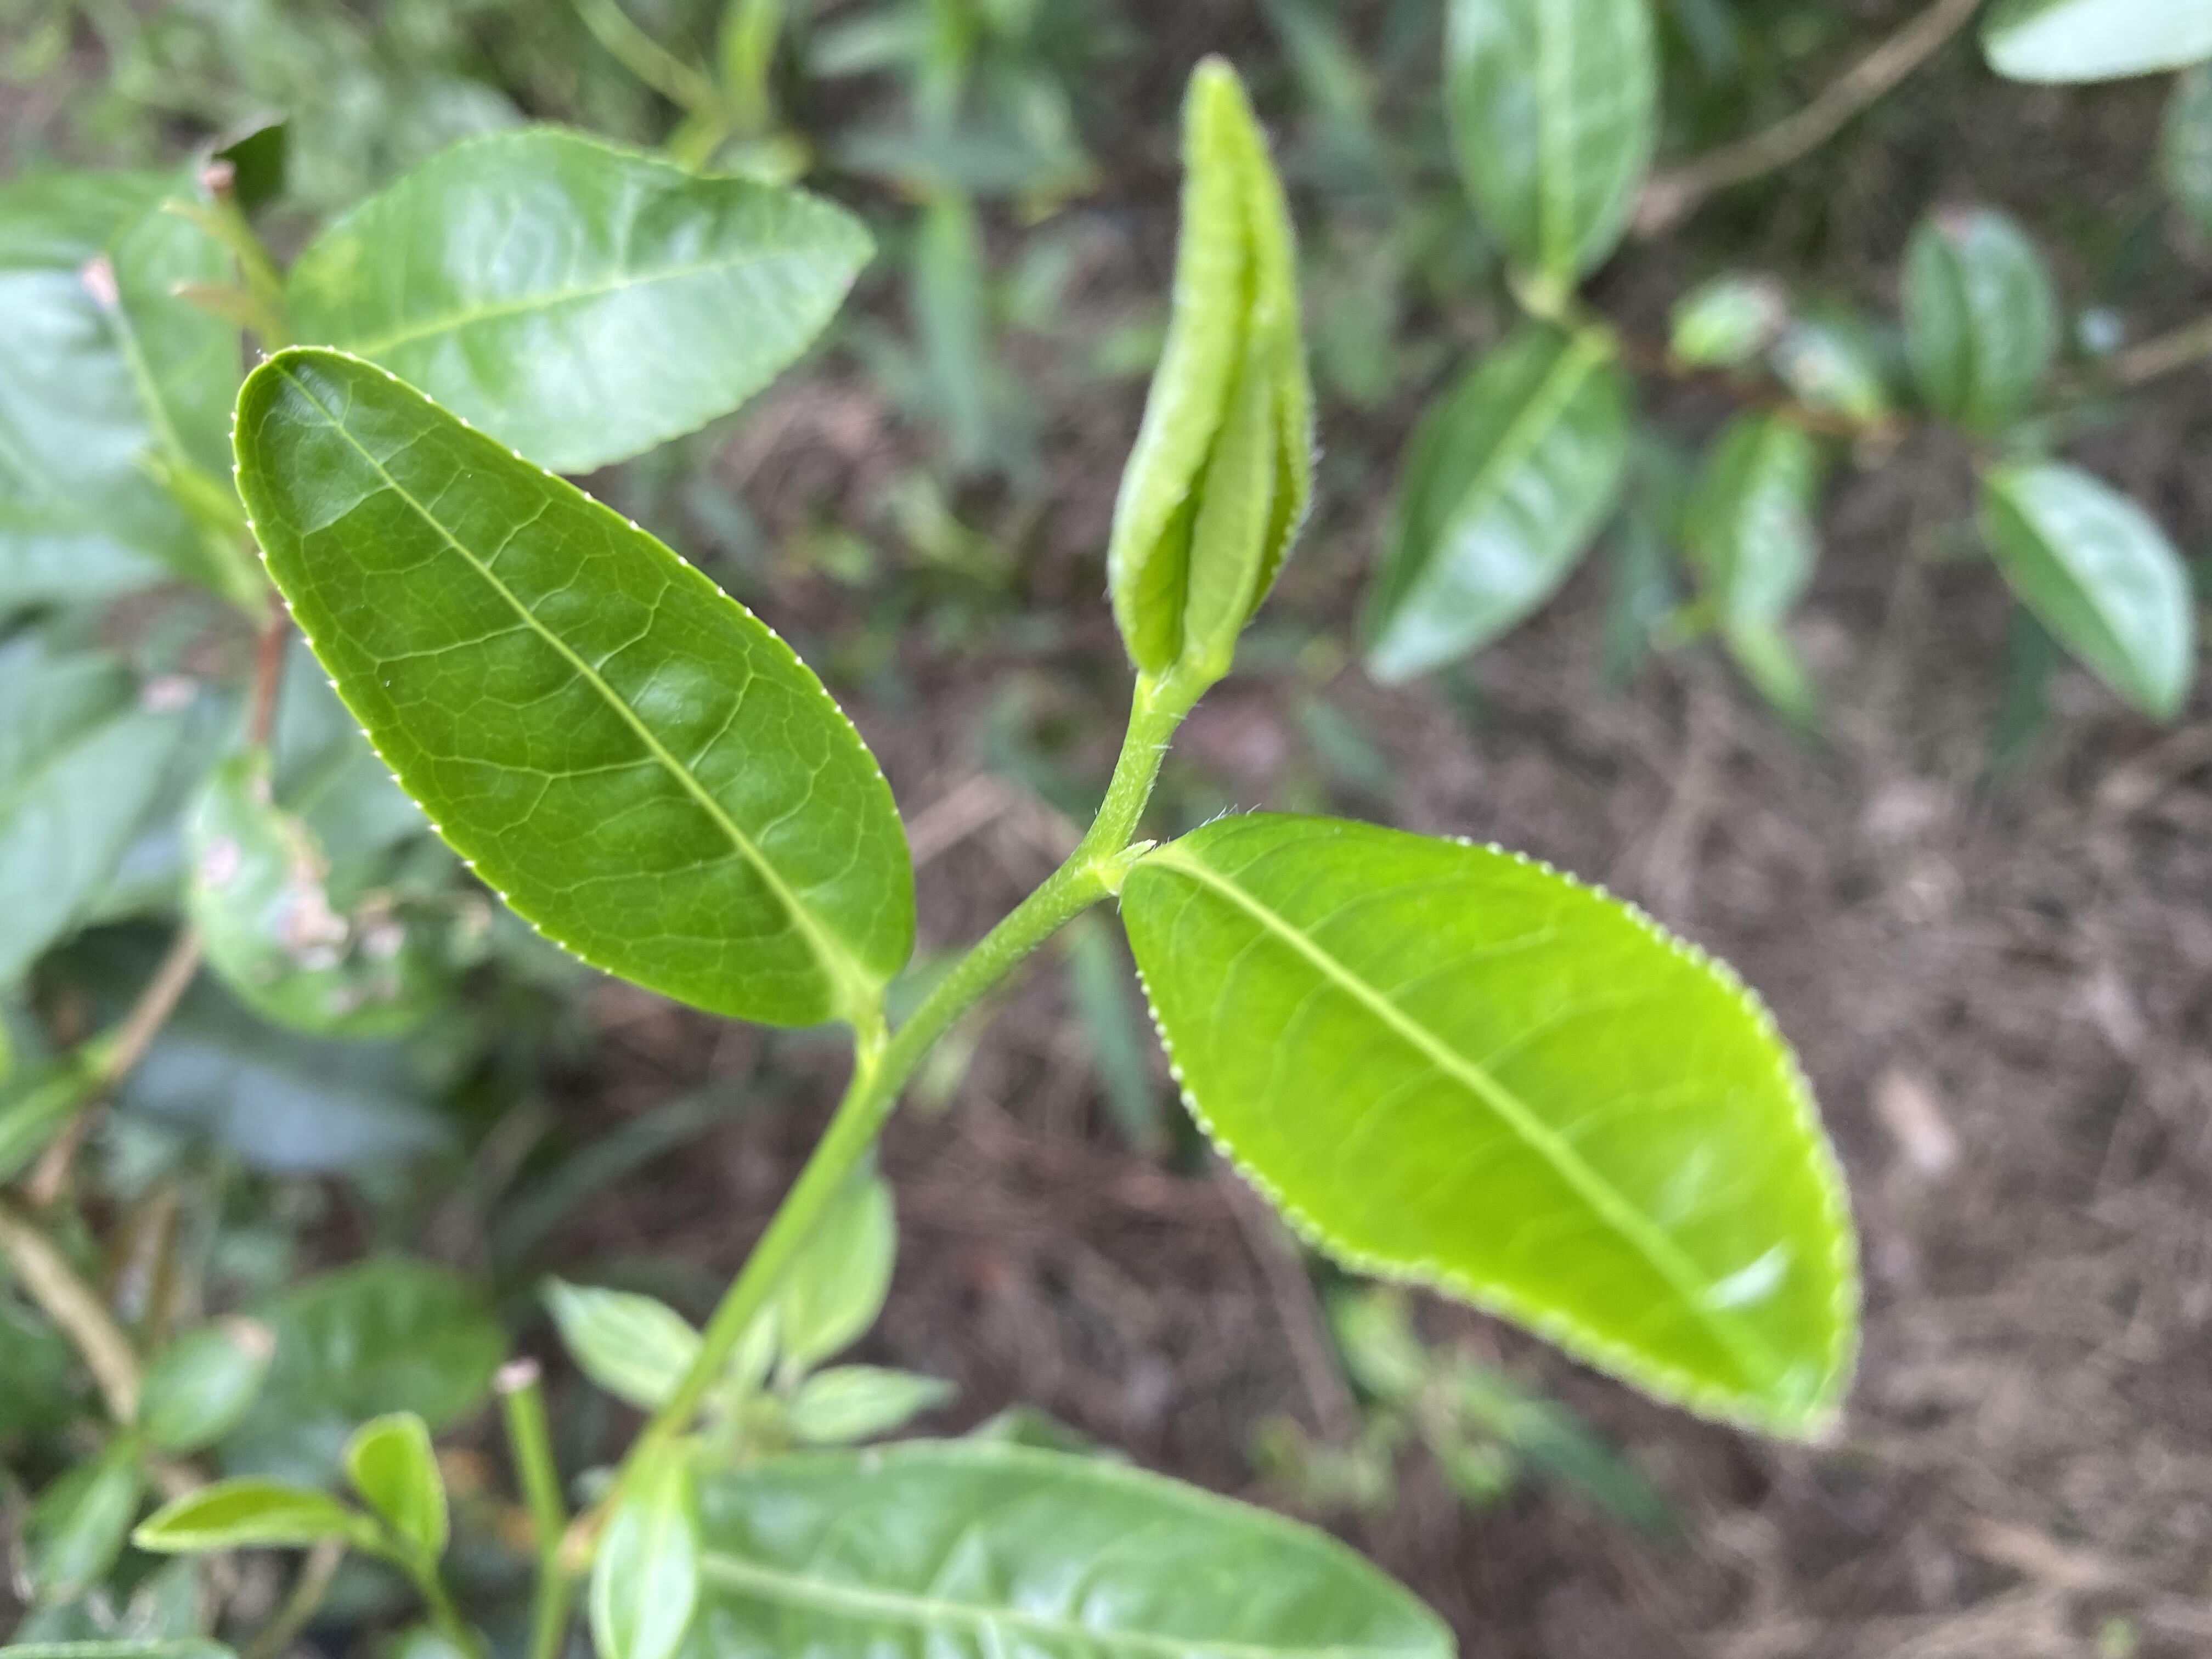healthy: (232, 343, 914, 1026), (1118, 812, 1857, 1441)
